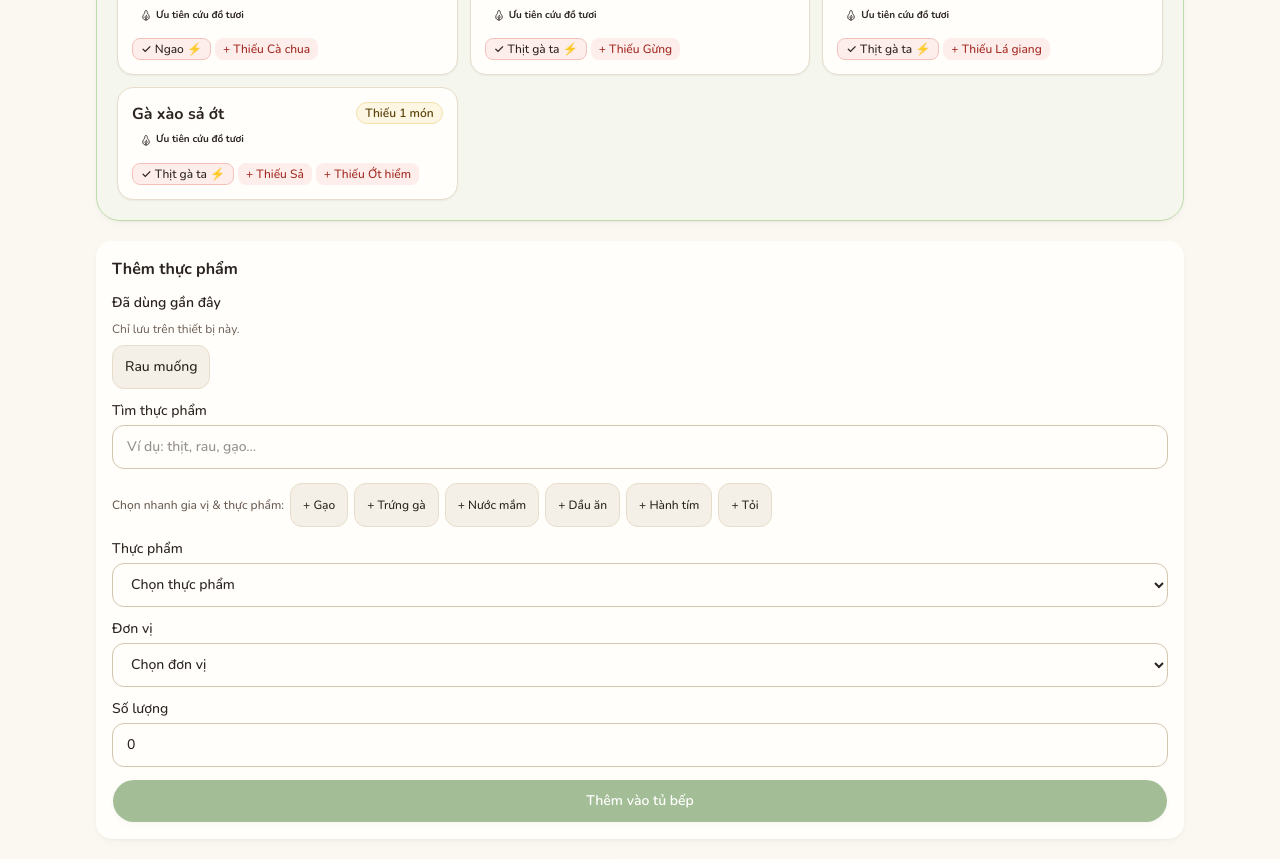
PantryPage › restores only this household's published recents and clears search on selection
(page scrolled)
In the search field labelled "Tìm thực phẩm": {"x": 640, "y": 446} left=112, top=424, right=1168, bottom=468, type "thịt"
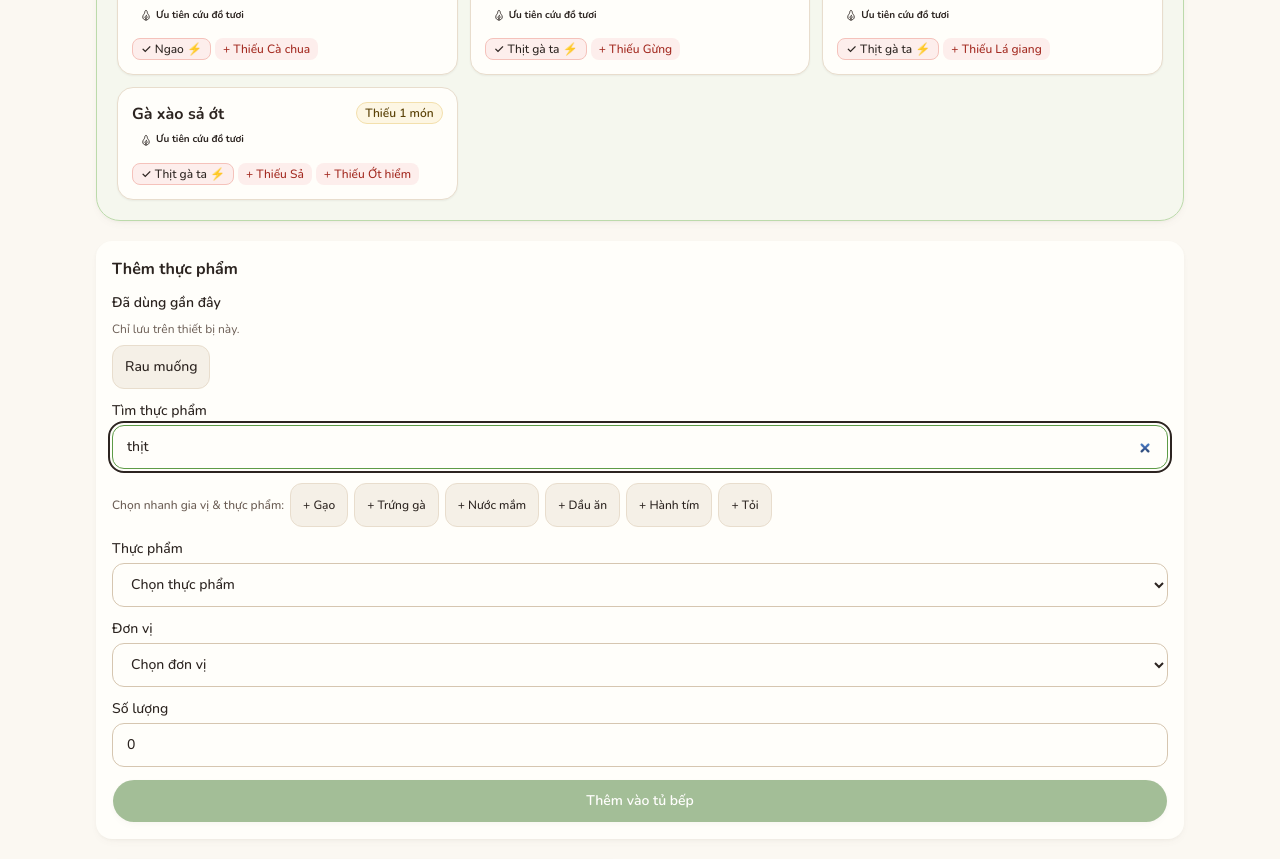
Click the button with aria-label "Chọn lại Rau muống": {"x": 161, "y": 366} left=112, top=344, right=210, bottom=388
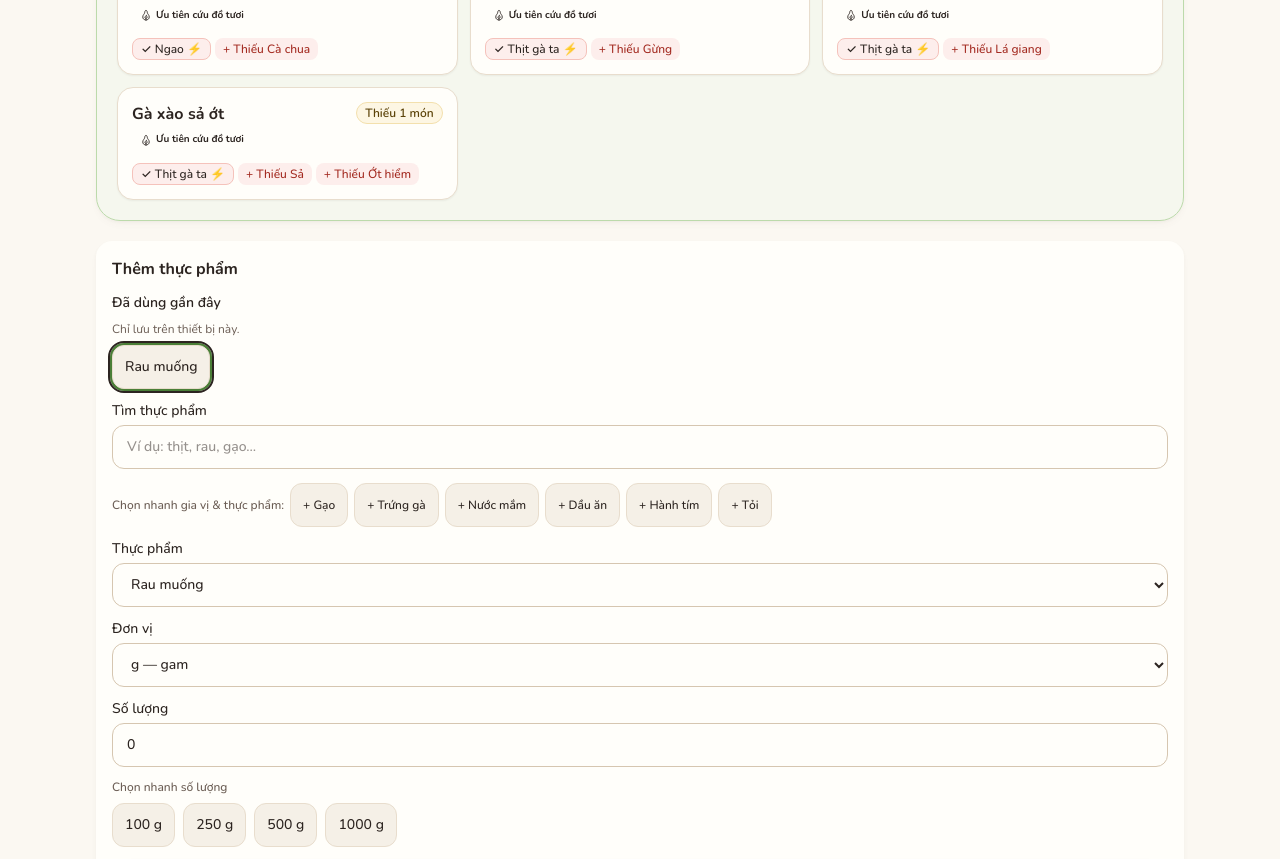
Now the search field labelled "Tìm thực phẩm" is empty, box left=112, top=424, right=1168, bottom=468
Now the dropdown labelled "Thực phẩm" shows "Rau muống", box left=112, top=562, right=1168, bottom=606
